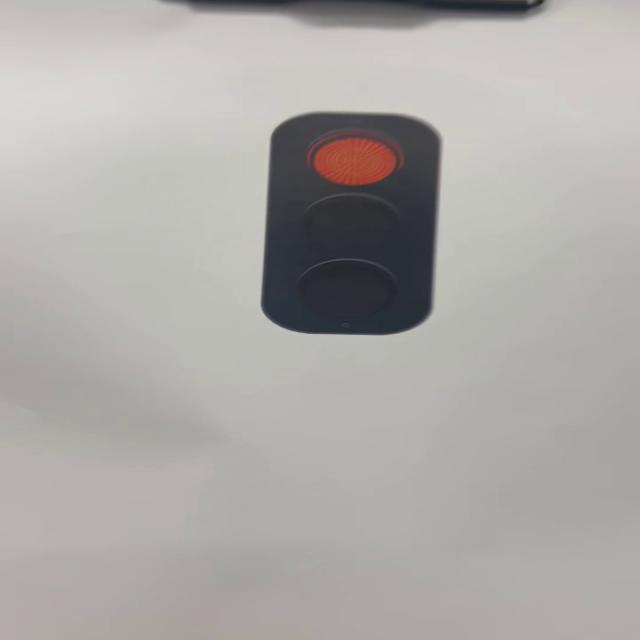red: (262, 110, 437, 336)
